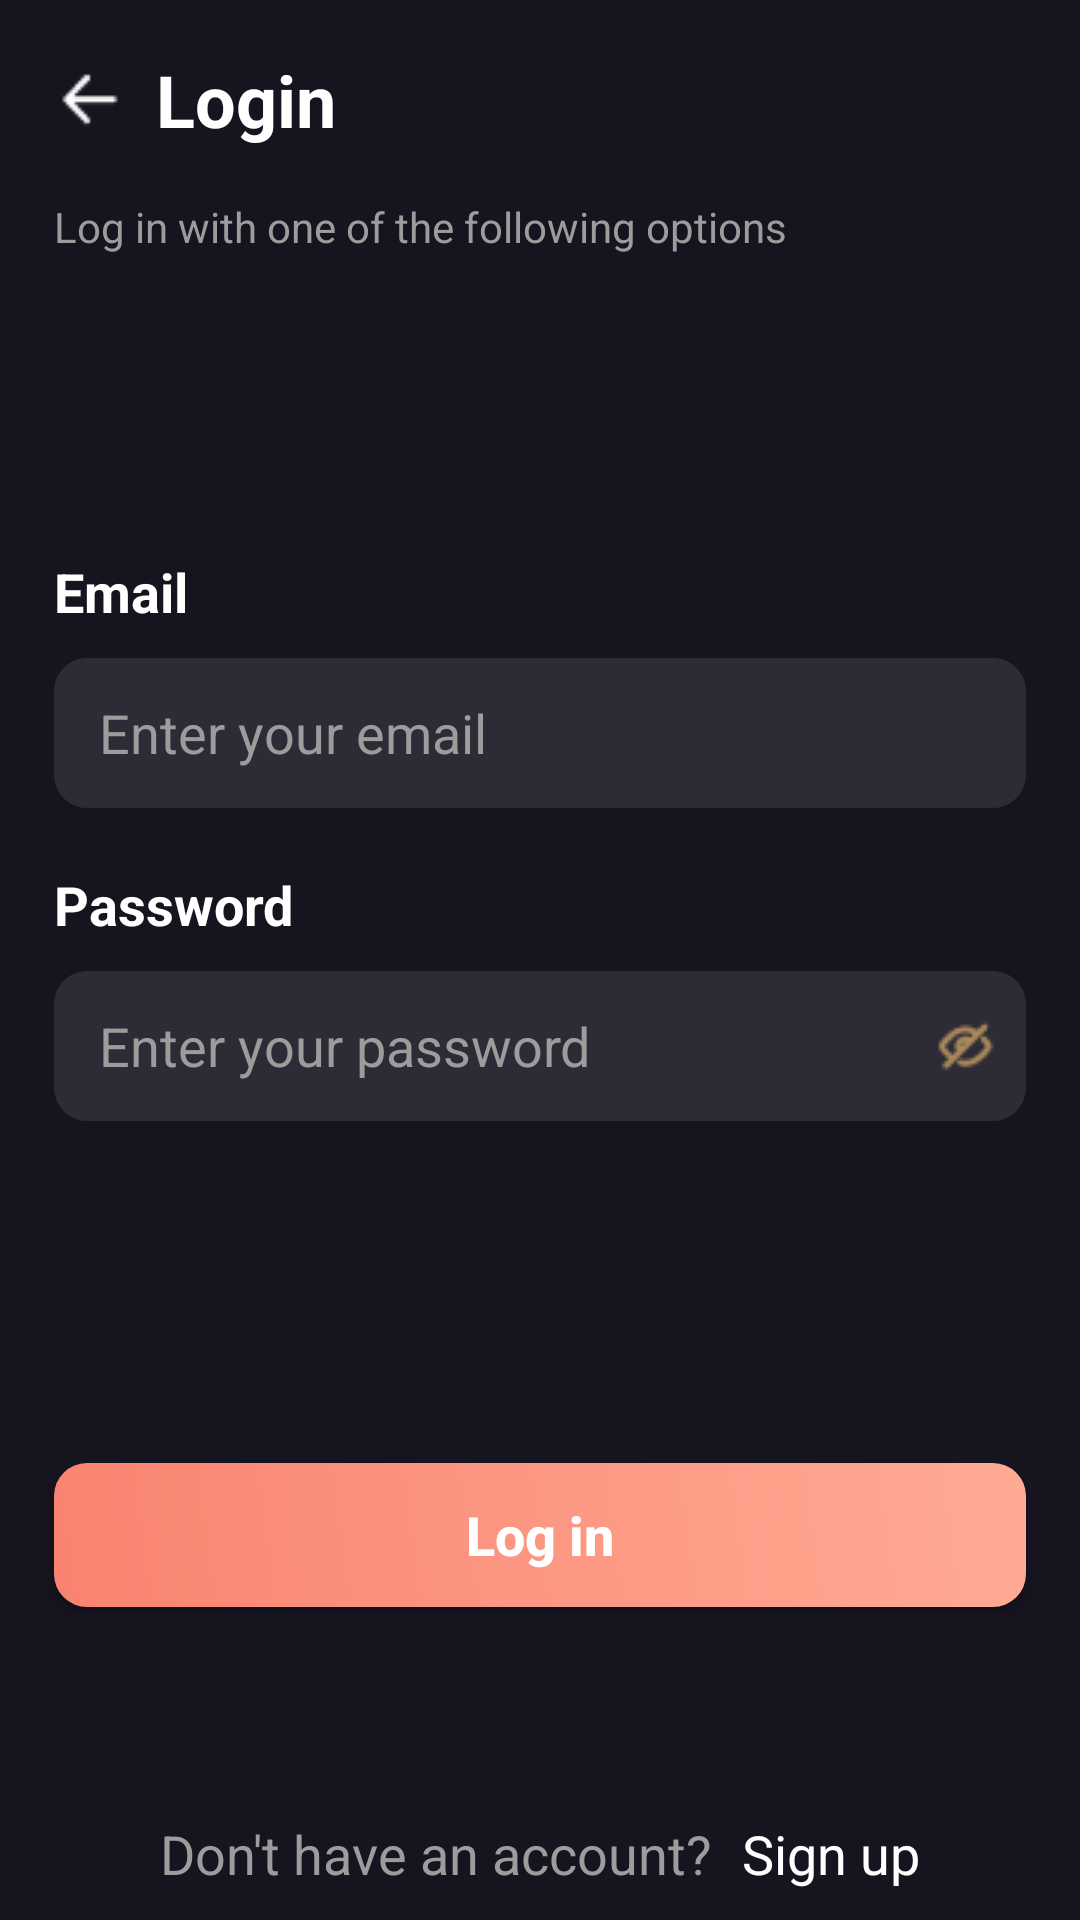

Named icons in this screenshot (1080x1920) and their bounding boxes, Rect(x1, y1, x2, y2):
left arrow: Rect(62, 74, 118, 125)
